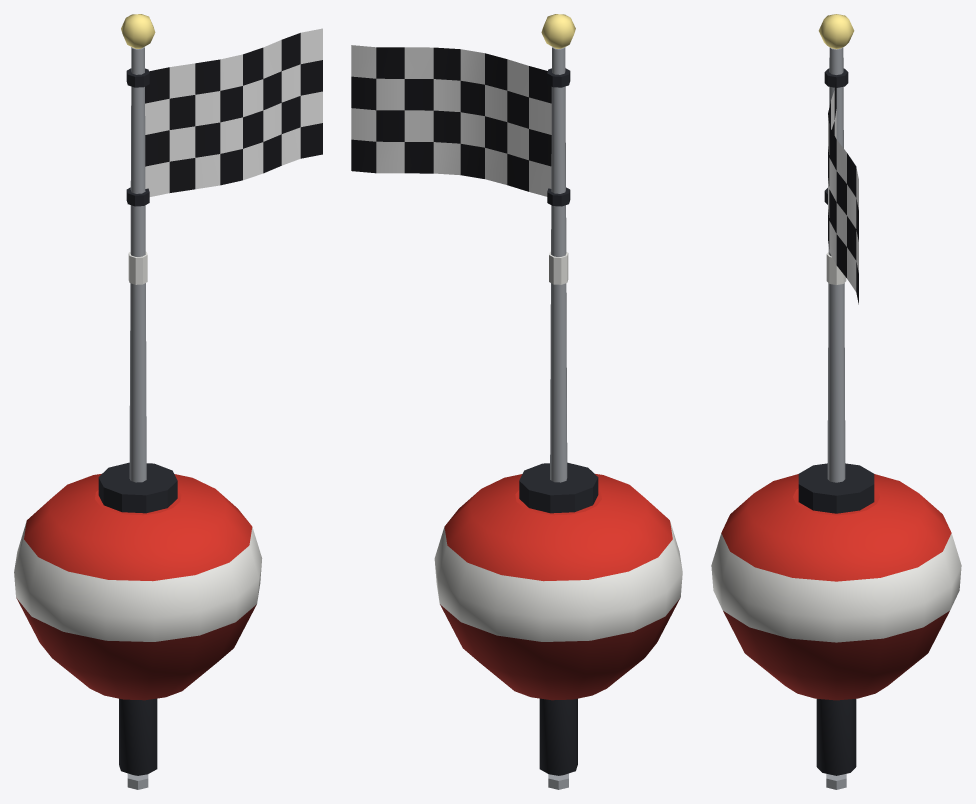
The model's file is buoy_goal.obj.
3 views of the same model, side by side, from view 1: azimuth 30°, elevation 25°; view 2: azimuth 150°, elevation 25°; view 3: azimuth 270°, elevation 25° (orthographic).
Parts seen in each view (by area): view 1: Body, Flag; view 2: Body, Flag; view 3: Body, Flag.
Boxes of the visible parts, x1,y1,x2,y2 form: Body: (14,14,262,789); Flag: (145,28,322,196); Body: (434,14,682,789); Flag: (351,45,551,196); Body: (711,14,961,789); Flag: (828,80,858,304).
Size of the model in its own units: 1.77 by 4.3 by 1.26.
2 materials, 2 textured.
